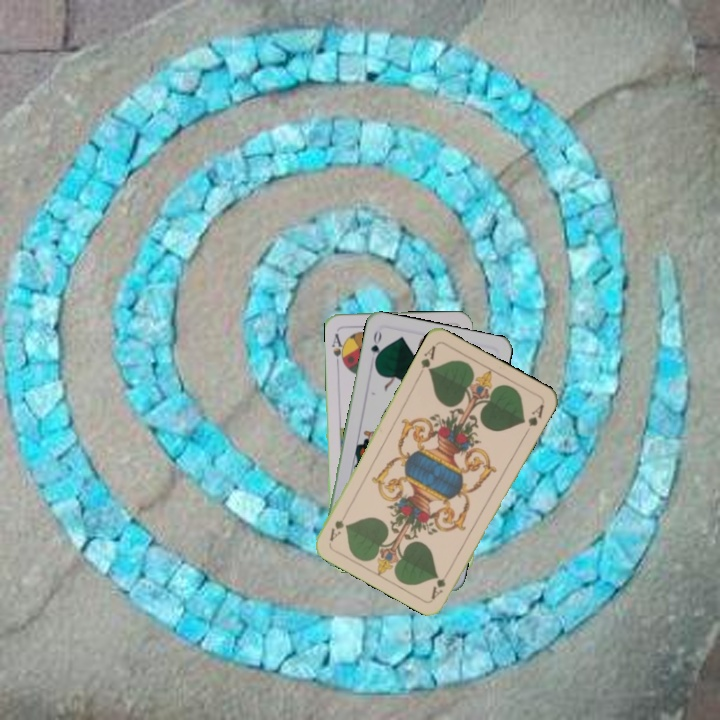GA: (427, 564, 453, 602), (415, 341, 439, 378)
GO: (366, 326, 384, 367)
SA: (328, 329, 348, 368)
